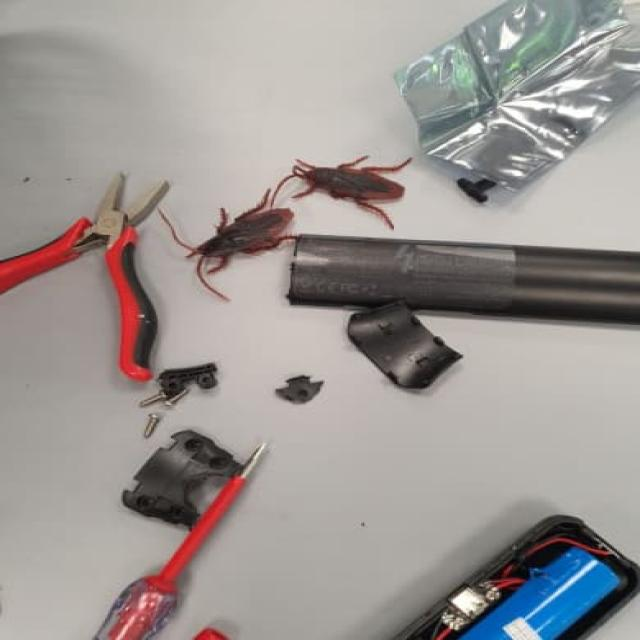Cockroach: (161, 185, 310, 300), (289, 152, 420, 226)
